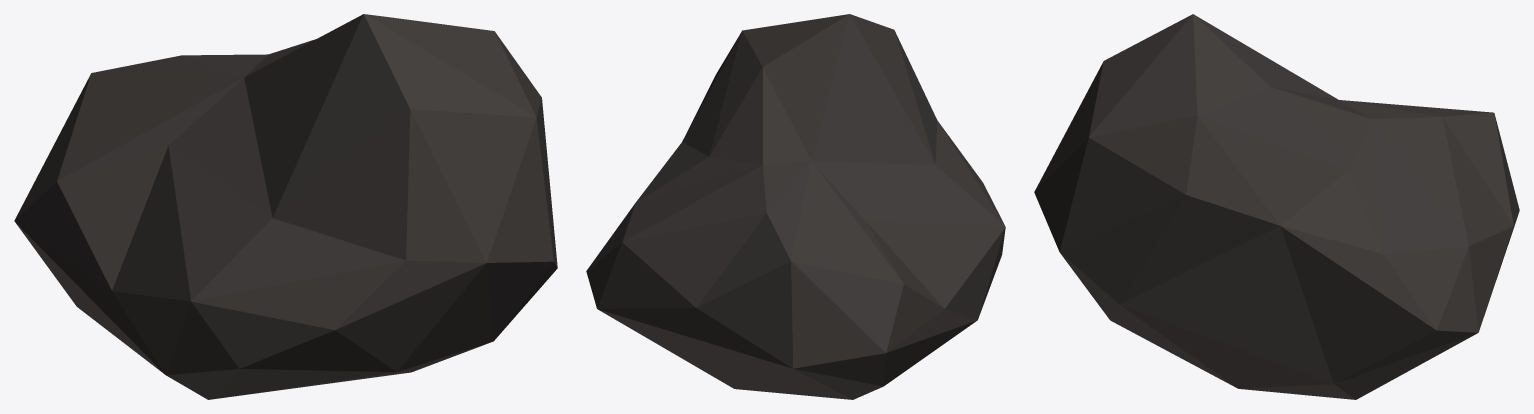
Rendered from Rock_6.fbx.
3 renders of one model, left to right at view 1: azimuth 30°, elevation 25°; view 2: azimuth 150°, elevation 25°; view 3: azimuth 270°, elevation 25°, orthographic. The views are drawn at different scales.
Visible parts, largest first — view 1: Group9358; view 2: Group9358; view 3: Group9358.
Boxes of the visible parts, bbox=[...] form: Group9358: bbox=[14, 14, 557, 399]; Group9358: bbox=[586, 14, 1005, 399]; Group9358: bbox=[1034, 14, 1519, 399].
Size of the model in its own units: 3.79 by 3.88 by 4.69.
